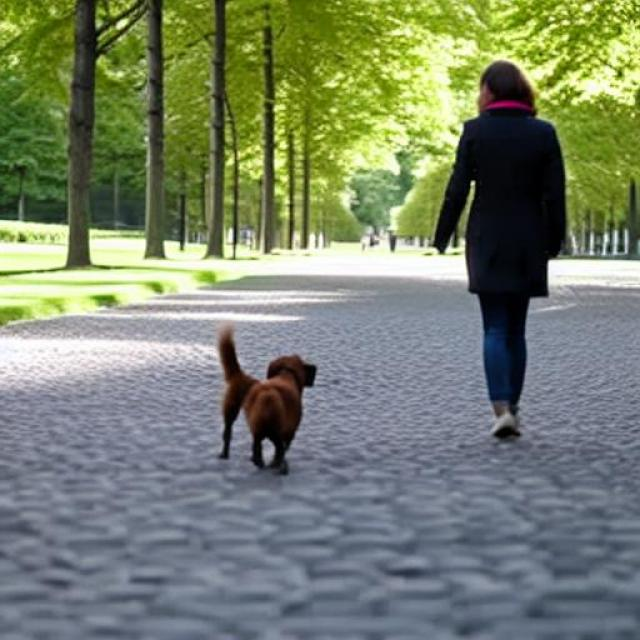Unleashed_Dog: (216, 264, 510, 478)
